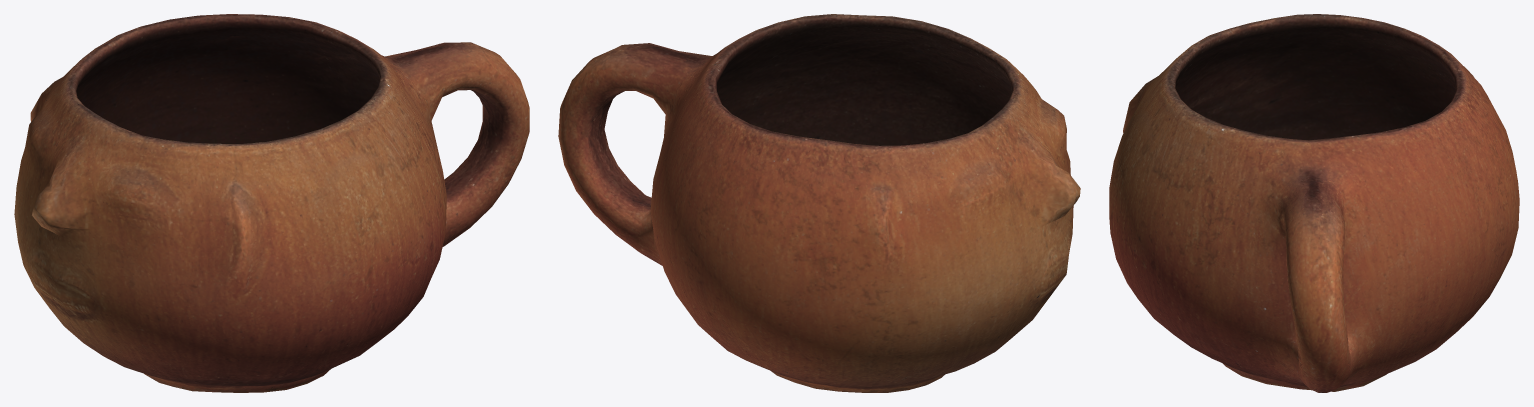
Rendered from mug.glb.
3 views of the same model, side by side, from view 1: azimuth 30°, elevation 25°; view 2: azimuth 150°, elevation 25°; view 3: azimuth 270°, elevation 25° (orthographic). The views are drawn at different scales.
Visible parts, largest first — view 1: Mug_Face_Round_01:Mug_Face_Round_01_Lof_ZB:Export_Mug_Clay_F; view 2: Mug_Face_Round_01:Mug_Face_Round_01_Lof_ZB:Export_Mug_Clay_F; view 3: Mug_Face_Round_01:Mug_Face_Round_01_Lof_ZB:Export_Mug_Clay_F.
Boxes of the visible parts, left/top/right/bottom form: Mug_Face_Round_01:Mug_Face_Round_01_Lof_ZB:Export_Mug_Clay_F: left=14, top=14, right=529, bottom=392; Mug_Face_Round_01:Mug_Face_Round_01_Lof_ZB:Export_Mug_Clay_F: left=558, top=14, right=1080, bottom=392; Mug_Face_Round_01:Mug_Face_Round_01_Lof_ZB:Export_Mug_Clay_F: left=1109, top=14, right=1519, bottom=392.
Bounding box in the file's own units: 0.1519 × 0.0818 × 0.1109.
Materials: 1 (1 with a texture image).
